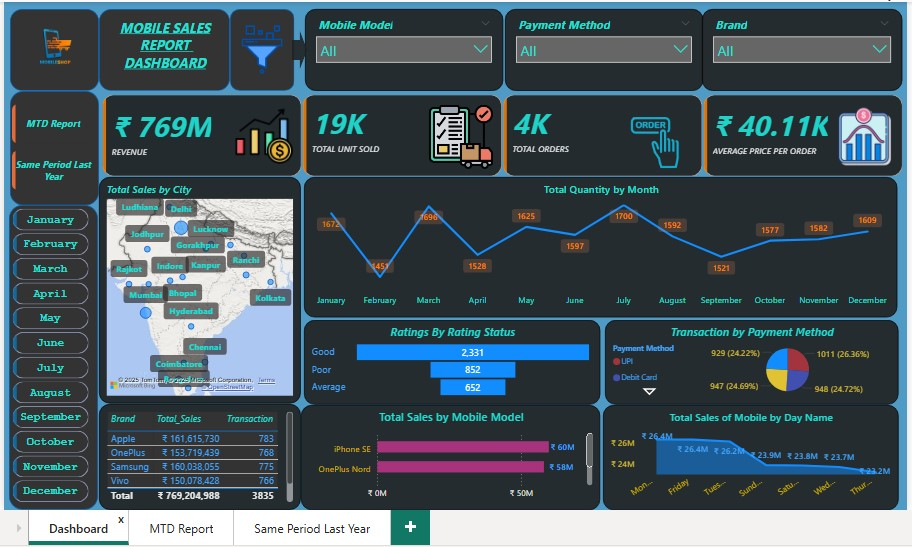

Layout of this report page (visuals, bound fields, positions):
{"tool":"powerbi","page":{"name":"Dashboard","canvas":[1280,720],"ordinal":0},"visuals":[{"type":"shape","box":[8.7,10.1,126.1,115.9],"z":0},{"type":"image","box":[8.7,0,187,126.1],"z":1000},{"type":"shape","box":[8.7,126.1,126.1,162.3],"z":2000},{"type":"shape","box":[7.2,288.4,126.1,431.9],"z":3000},{"type":"advancedSlicerVisual","fields":{"Values":["Custom_Calender.Date.Variation.Date Hierarchy.Month"]},"box":[7.2,288.4,118.8,431.9],"z":4000},{"type":"cardVisual","fields":{"Data":["Measure.Sales_Amount","Measure.Total_Quantity","Measure.Transaction","Measure.Average_Price"]},"box":[134.8,126.1,1144.9,126.1],"z":5000},{"type":"slicer","fields":{"Values":["Mobile_sales_Report.Mobile Model"]},"box":[426.1,10.1,281.2,115.9],"z":6000},{"type":"slicer","fields":{"Values":["Mobile_sales_Report.Payment Method"]},"box":[710.1,10.1,281.2,115.9],"z":7000},{"type":"shape","box":[320.3,10.1,91.3,115.9],"z":8000},{"type":"slicer","fields":{"Values":["Mobile_sales_Report.Brand"]},"box":[989.9,10.1,284.1,115.9],"z":9000},{"type":"shape","box":[408.7,39.1,21.7,56.5],"z":10000},{"type":"image","box":[313,27.5,105.8,81.2],"z":11000},{"type":"shape","box":[134.8,10.1,185.5,115.9],"z":12000},{"type":"textbox","box":[134.8,18.8,187,98.6],"z":13000},{"type":"map","title":"Total Sales by City","fields":{"Category":["Mobile_sales_Report.City"],"Size":["Measure.Total_Sales"]},"box":[134.3,248.6,285.7,321.4],"z":14000},{"type":"lineChart","title":"Total Quantity by Month","fields":{"Category":["Custom_Calender.Date.Variation.Date Hierarchy.Month"],"Y":["Measure.Total_Quantity"]},"box":[425.7,248.6,841.4,198.6],"z":15000},{"type":"funnel","title":"Ratings By Rating Status","fields":{"Category":["Mobile_sales_Report.Rating Status"],"Y":["CountNonNull(Mobile_sales_Report.Customer Ratings)"]},"box":[425.7,450,420,120],"z":16000},{"type":"pieChart","fields":{"Y":["Measure.Transaction"],"Category":["Mobile_sales_Report.Payment Method"]},"box":[851.4,450,415.7,120],"z":17000},{"type":"clusteredBarChart","title":"Total Sales by Mobile Model","fields":{"Category":["Mobile_sales_Report.Mobile Model"],"Y":["Measure.Total_Sales"]},"box":[421.4,571.4,424.3,148.6],"z":18000},{"type":"areaChart","title":"Total Sales of Mobile by Day Name","fields":{"Y":["Measure.Total_Sales"],"Category":["Custom_Calender.Day Name"]},"box":[848.6,571.4,418.6,148.6],"z":19000},{"type":"tableEx","fields":{"Values":["Mobile_sales_Report.Brand","Measure.Total_Sales","Measure.Transaction"]},"box":[134,570,286,150],"z":20000},{"type":"pageNavigator","box":[11.9,144.8,117.9,122.4],"z":21000}]}

Visuals, with their boxes on the page's 1280x720 design canvas (x1, y1, x2, y2). These are canvas units, not pixel positions in the 912x547 screenshot, which may show the page scaled, cropped or inside an application window:
shape: <bbox>9, 10, 135, 126</bbox>
image: <bbox>9, 0, 196, 126</bbox>
shape: <bbox>9, 126, 135, 288</bbox>
shape: <bbox>7, 288, 133, 720</bbox>
advancedSlicerVisual - Custom_Calender.Date.Variation.Date Hierarchy.Month: <bbox>7, 288, 126, 720</bbox>
cardVisual - Measure.Sales_Amount x Measure.Total_Quantity: <bbox>135, 126, 1280, 252</bbox>
slicer - Mobile_sales_Report.Mobile Model: <bbox>426, 10, 707, 126</bbox>
slicer - Mobile_sales_Report.Payment Method: <bbox>710, 10, 991, 126</bbox>
shape: <bbox>320, 10, 412, 126</bbox>
slicer - Mobile_sales_Report.Brand: <bbox>990, 10, 1274, 126</bbox>
shape: <bbox>409, 39, 430, 96</bbox>
image: <bbox>313, 28, 419, 109</bbox>
shape: <bbox>135, 10, 320, 126</bbox>
textbox: <bbox>135, 19, 322, 117</bbox>
"Total Sales by City" map: <bbox>134, 249, 420, 570</bbox>
"Total Quantity by Month" lineChart: <bbox>426, 249, 1267, 447</bbox>
"Ratings By Rating Status" funnel: <bbox>426, 450, 846, 570</bbox>
pieChart - Measure.Transaction x Mobile_sales_Report.Payment Method: <bbox>851, 450, 1267, 570</bbox>
"Total Sales by Mobile Model" clusteredBarChart: <bbox>421, 571, 846, 720</bbox>
"Total Sales of Mobile by Day Name" areaChart: <bbox>849, 571, 1267, 720</bbox>
tableEx - Mobile_sales_Report.Brand x Measure.Total_Sales: <bbox>134, 570, 420, 720</bbox>
pageNavigator: <bbox>12, 145, 130, 267</bbox>
